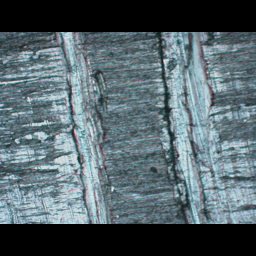d: (0, 32, 117, 223), (152, 32, 255, 223)
